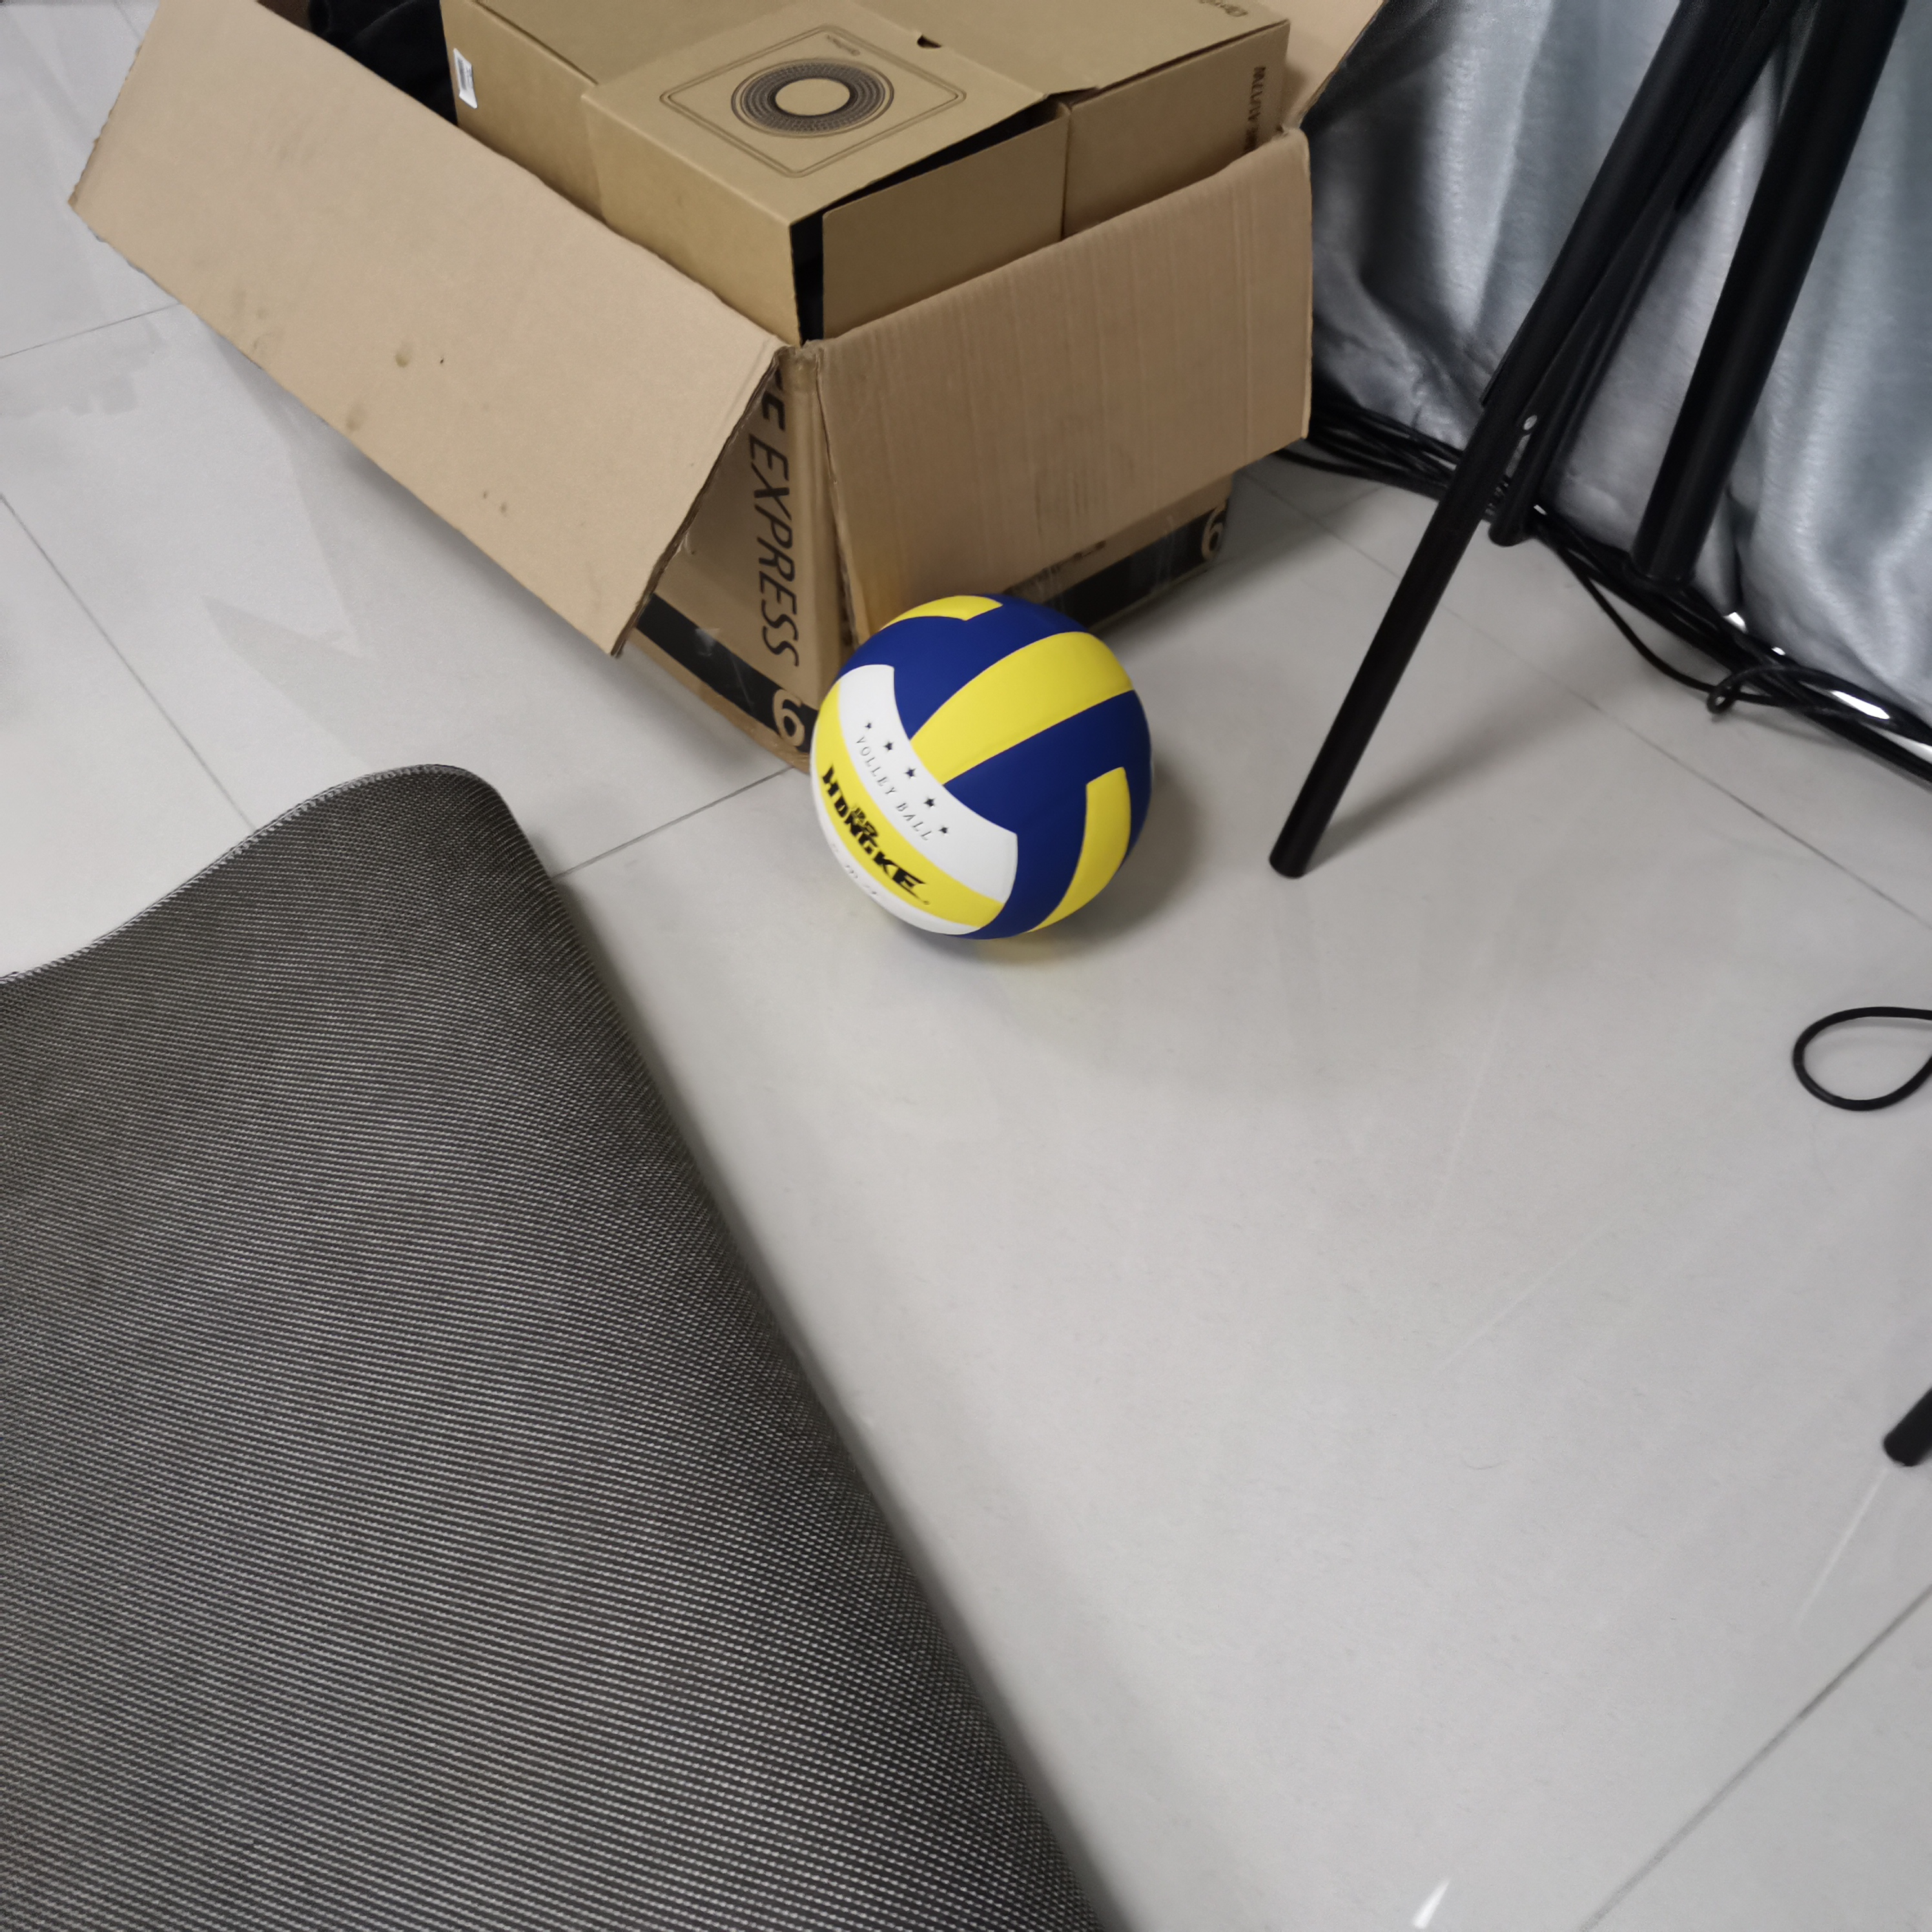volleyball: (812, 586, 1152, 945)
